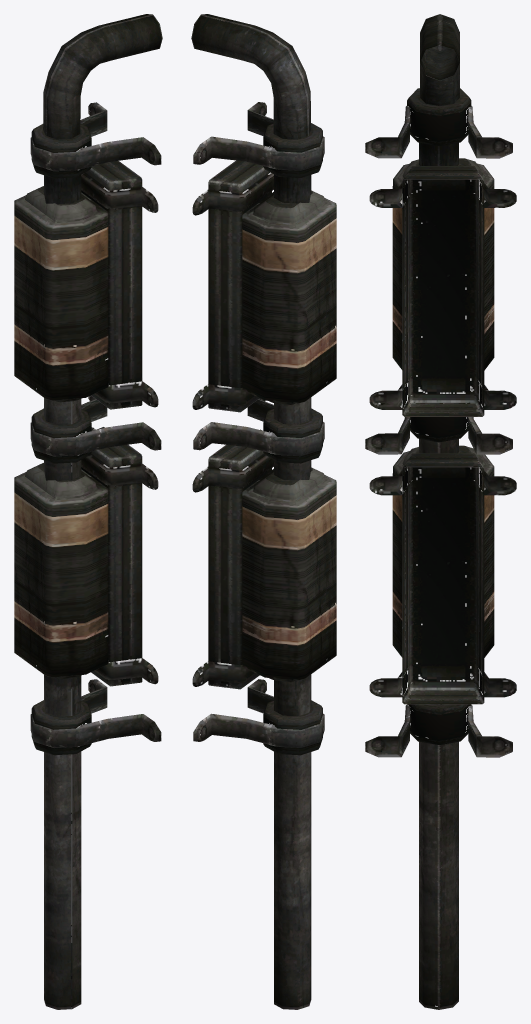
The model's file is tesla_dressing_metaldetails_02.dae.
The picture shows the model from 3 angles, left to right: view 1: azimuth 30°, elevation 25°; view 2: azimuth 150°, elevation 25°; view 3: azimuth 270°, elevation 25°; orthographic projection. The views are drawn at different scales.
Parts seen in each view (by area): view 1: polySurface46; view 2: polySurface46; view 3: polySurface46.
Boxes of the visible parts, left/top/right/bottom form: polySurface46: left=14, top=14, right=162, bottom=1009; polySurface46: left=191, top=14, right=336, bottom=1009; polySurface46: left=365, top=14, right=516, bottom=1009.
Bounding box in the file's own units: 57.2 × 435 × 59.51.
